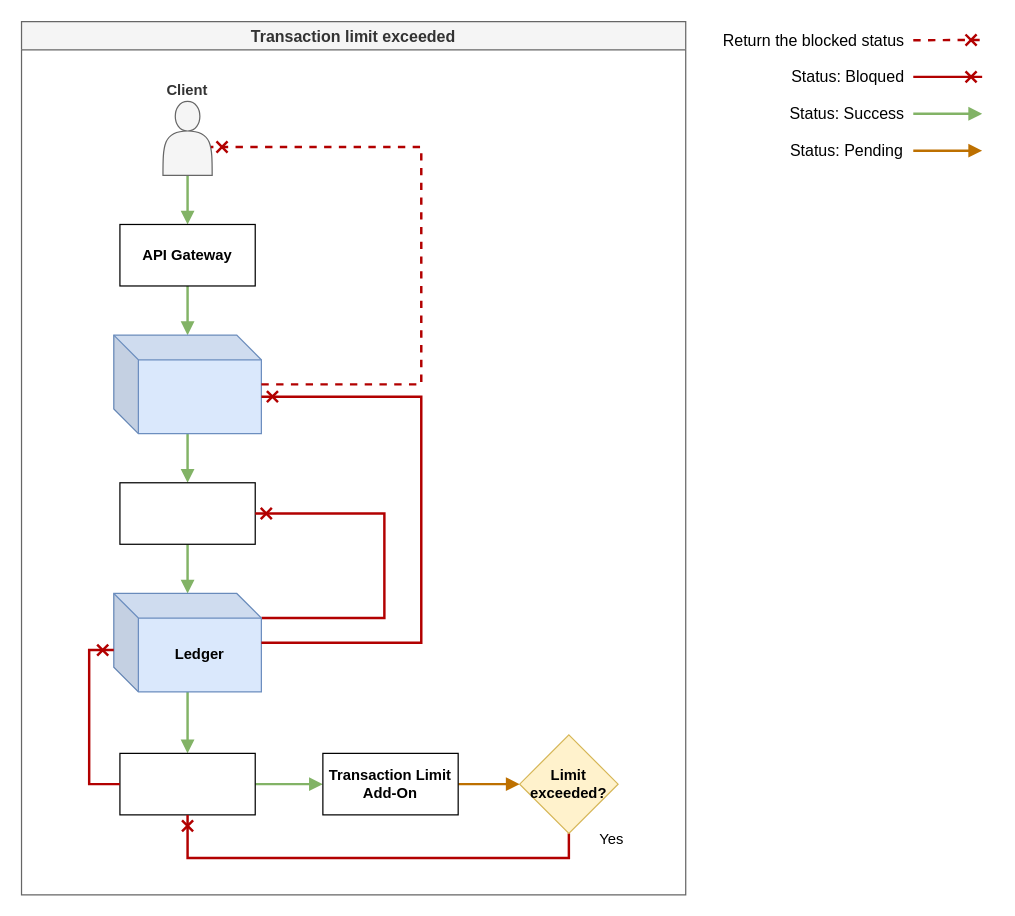
The diagram is 1015 pixels wide and 916 high, and some of its shapes have lost their labels. Each missing label, with the box of its shape:
Moria (Authorizer): (119, 482, 255, 544)
Pix System: (113, 334, 261, 434)
Transactions API: (119, 752, 255, 815)
